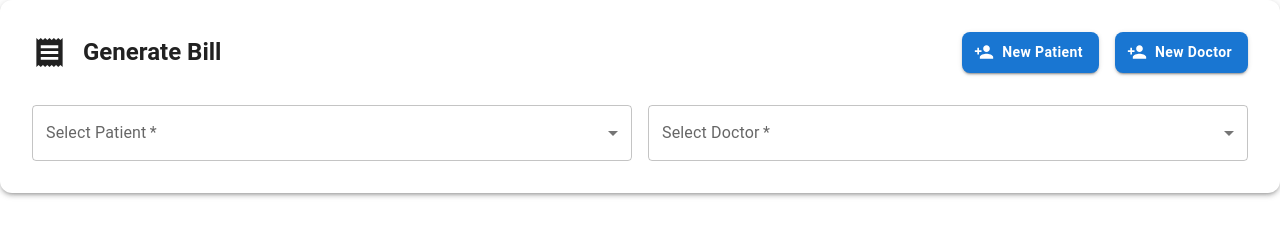
Test case: GenerateBill › loads and displays patients
Press the mouse on the dropdown named "select patient" next to "Select Patient" at [332, 132], box 32,104 -> 632,160
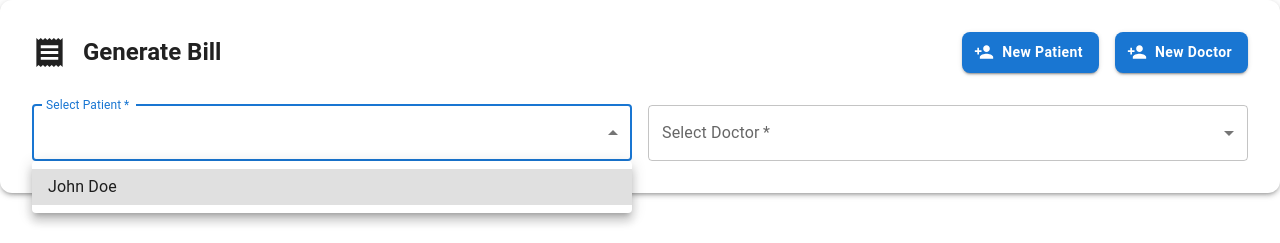
Expected: the option "John Doe" is shown, 32,169 -> 632,205
